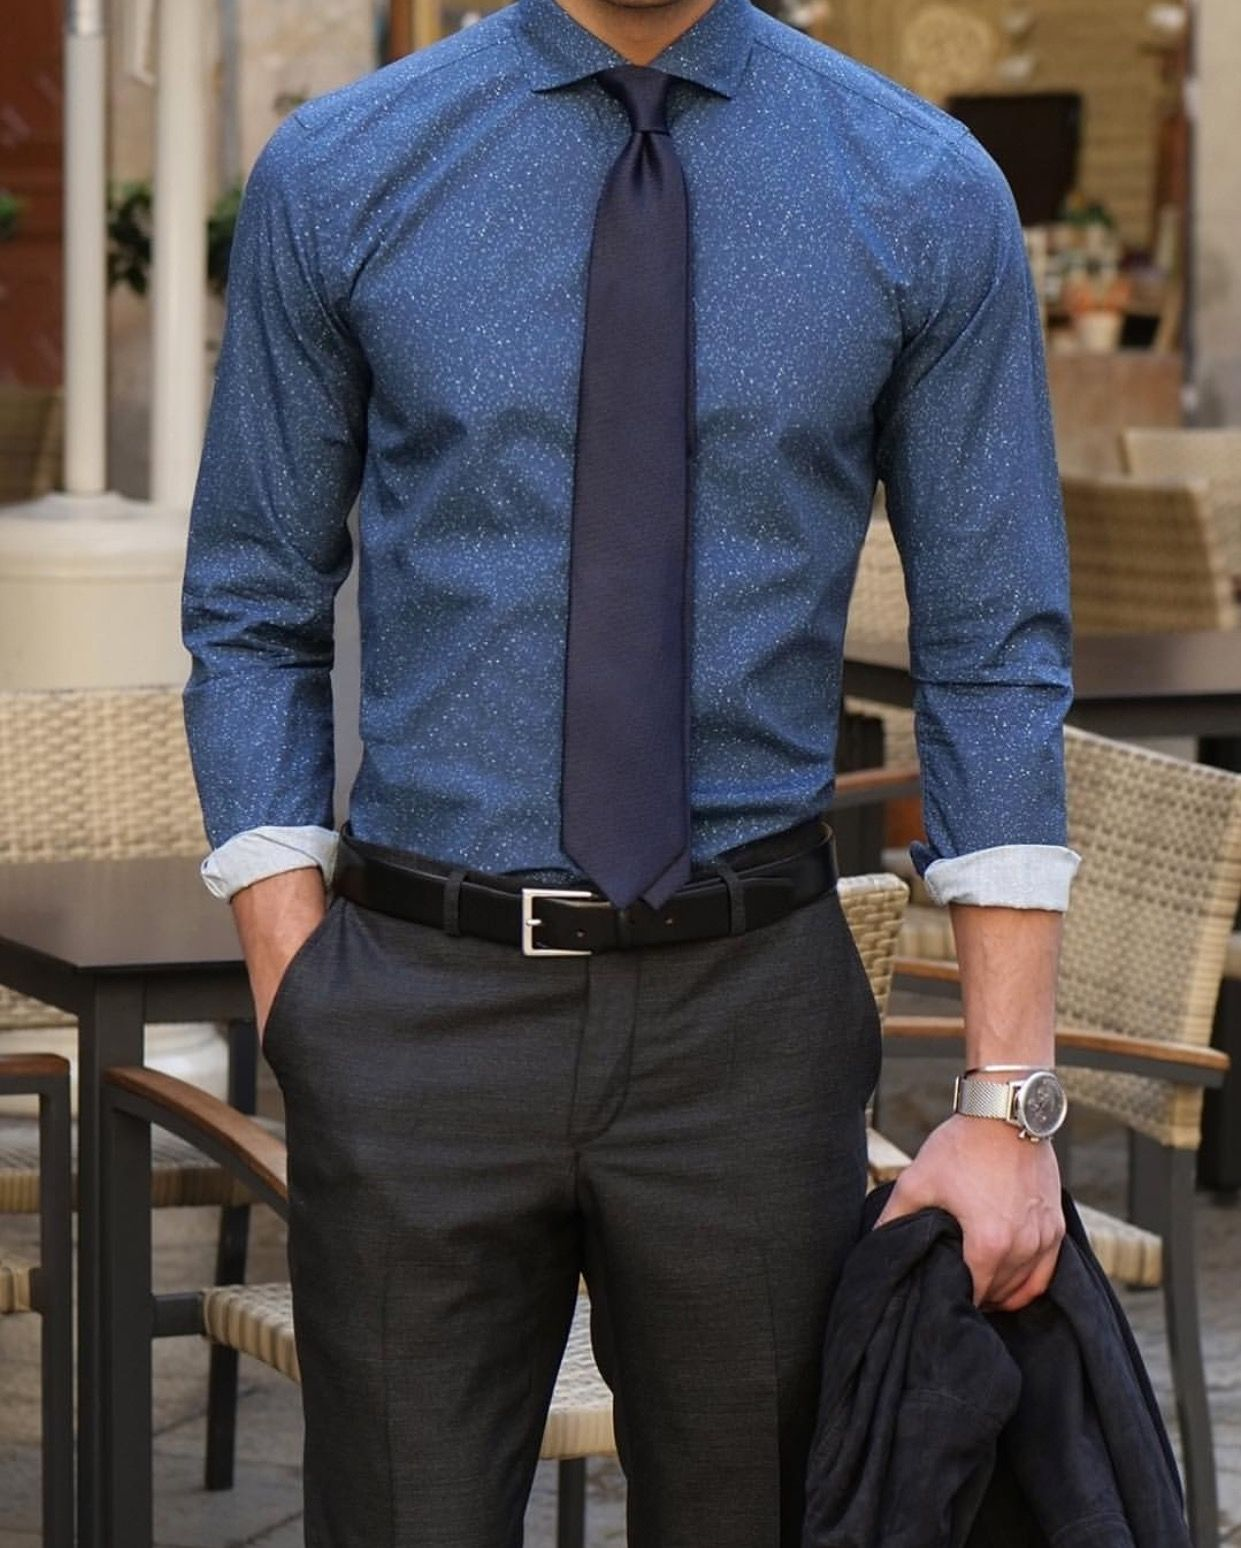F_belt: (322, 834, 862, 957)
F_dress pants: (290, 852, 893, 1521)
F_shirt: (182, 14, 1081, 949)
F_tie: (543, 61, 707, 933)
